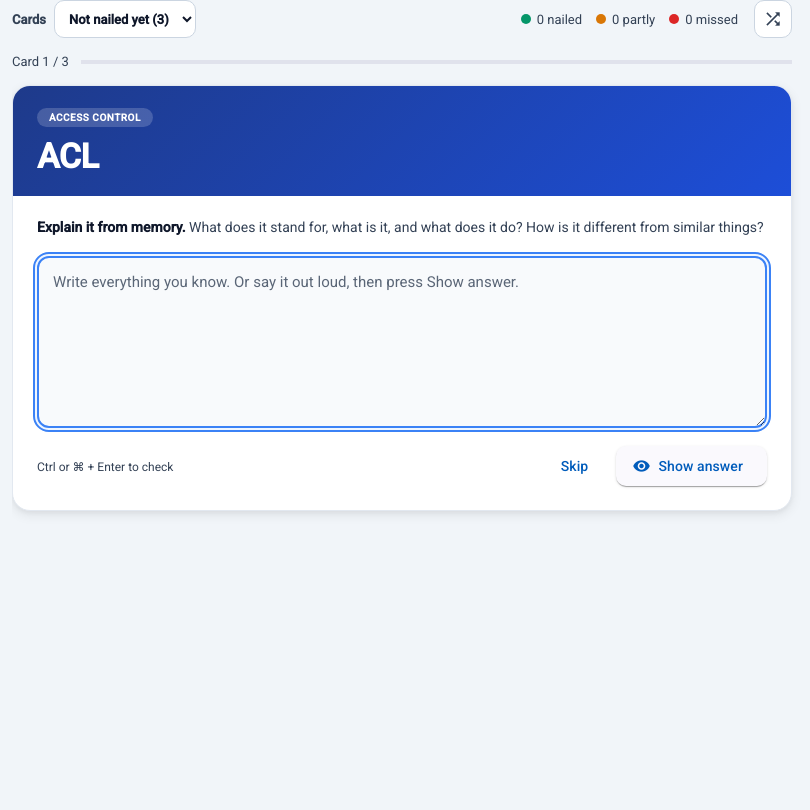
Test: BrainDumpComponent › shows the full card (definition, exam angle, comparison, related) after the answer
Click the button "Show answer" at (692, 466), box x1=616 y1=446 x2=767 y2=486
(page scrolled)
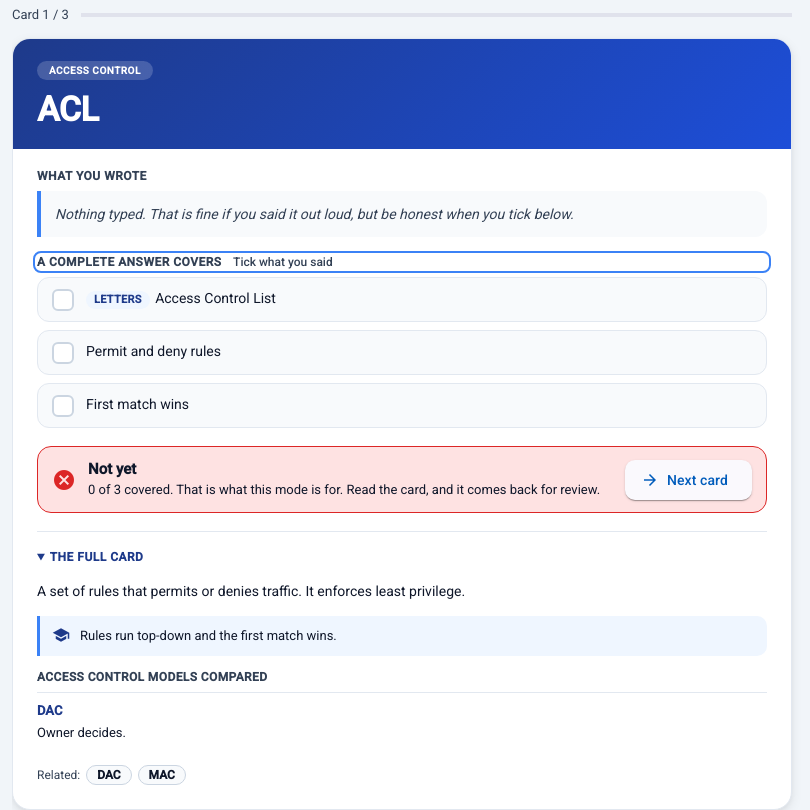
Result: the element with class "bd-full" shows "A set of rules that permits or denies traffic." at x1=37 y1=583 x2=465 y2=599
Result: the element with class "bd-full" shows "Rules run top-down" at x1=80 y1=628 x2=337 y2=643
Result: the element with class "bd-full" shows "Access control models compared" at x1=37 y1=670 x2=268 y2=684
